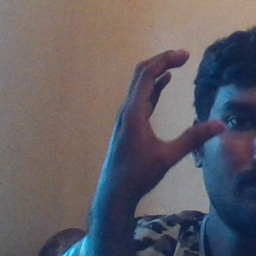C: (109, 39, 232, 171)
